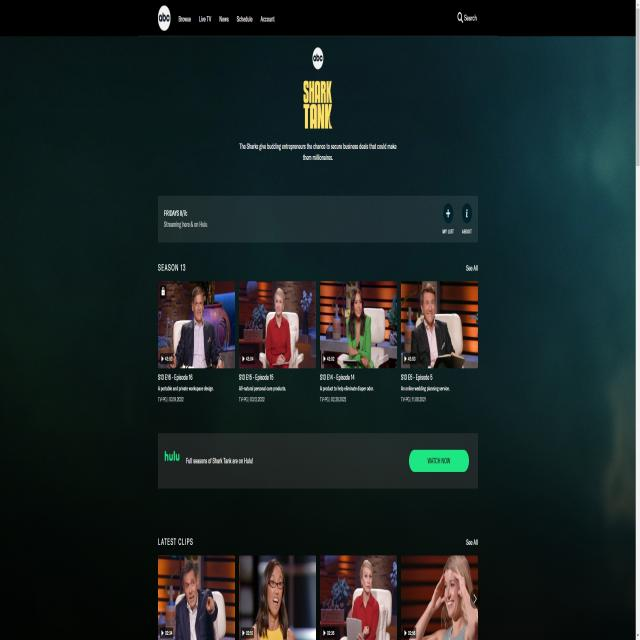menu-bar: (152, 3, 281, 33)
